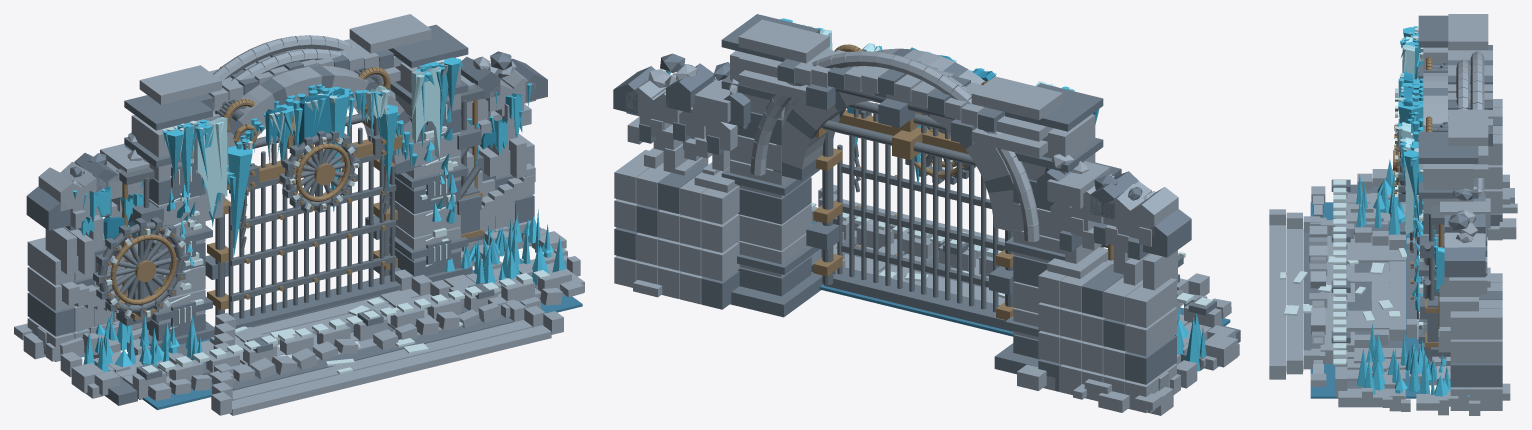
Rendered from frozen_watergate_v09.glb.
3 renders of one model, left to right at view 1: azimuth 30°, elevation 25°; view 2: azimuth 150°, elevation 25°; view 3: azimuth 270°, elevation 25°, orthographic. The views are drawn at different scales.
Parts seen in each view (by area): view 1: Spillway stepped stone bed.008, Spillway stepped stone bed.007, Gate threshold sill, Arch spandrel bonded course.005, Arch spandrel bonded course.004, Spillway stepped stone bed.006, Pillar cornice.003, v09 fused icicle curtain 0, Pillar cornice.007, v09 fused icicle curtain 2, v09 monumental icicle 0, Fractured parapet stone.008 (+51 smaller); view 2: Gate threshold sill, Arch spandrel bonded course.005, Arch spandrel bonded course.004, Pillar masonry 1 3, Pillar masonry 1 2, Stone pillar footing.001, Pillar cornice.003, Bonded abutment block.019, Stone wall buttress.002, Bonded abutment block.014, Bonded abutment block.009, Fractured parapet stone.008 (+91 smaller); view 3: Spillway stepped stone bed.008, Spillway stepped stone bed.007, Bonded abutment block.039, Pillar cornice.007, Arch spandrel bonded course.004, Arch spandrel bonded course.005, Bonded abutment block.029, Bonded abutment block.034, Water channel, Pillar masonry 1 8, Fractured parapet stone.017, Bonded abutment block.024 (+61 smaller).
Boxes of the visible parts, x1,y1,x2,y2 form: Spillway stepped stone bed.008: (230, 325, 551, 415); Spillway stepped stone bed.007: (232, 320, 532, 400); Gate threshold sill: (233, 275, 401, 328); Arch spandrel bonded course.005: (349, 14, 431, 53); Arch spandrel bonded course.004: (139, 65, 221, 104); Spillway stepped stone bed.006: (233, 315, 513, 390); Pillar cornice.003: (124, 95, 212, 130); v09 fused icicle curtain 0: (193, 117, 227, 216); Pillar cornice.007: (388, 24, 468, 68); v09 fused icicle curtain 2: (411, 66, 440, 160); v09 monumental icicle 0: (228, 145, 252, 255); Fractured parapet stone.008: (26, 187, 70, 230); Gate threshold sill: (824, 267, 1013, 331); Arch spandrel bonded course.005: (738, 19, 829, 63); Arch spandrel bonded course.004: (971, 76, 1062, 120); Pillar masonry 1 3: (738, 177, 811, 224); Pillar masonry 1 2: (739, 203, 811, 250); Stone pillar footing.001: (730, 272, 822, 317); Pillar cornice.003: (1005, 83, 1103, 131); Bonded abutment block.019: (1125, 278, 1176, 327); Stone wall buttress.002: (1047, 161, 1110, 208); Bonded abutment block.014: (1125, 307, 1176, 356); Bonded abutment block.009: (1125, 335, 1176, 384); Fractured parapet stone.008: (1143, 209, 1191, 257); Spillway stepped stone bed.008: (1269, 225, 1285, 360); Spillway stepped stone bed.007: (1286, 229, 1303, 371); Bonded abutment block.039: (1450, 309, 1502, 339); Pillar cornice.007: (1418, 132, 1478, 163); Arch spandrel bonded course.004: (1448, 14, 1488, 50); Arch spandrel bonded course.005: (1448, 109, 1488, 145); Bonded abutment block.029: (1450, 363, 1502, 387); Bonded abutment block.034: (1450, 339, 1502, 363); Water channel: (1310, 202, 1426, 398); Pillar masonry 1 8: (1423, 164, 1473, 189); Fractured parapet stone.017: (1444, 247, 1485, 277); Bonded abutment block.024: (1450, 387, 1502, 410).
Size of the model in its own units: 17.83 by 8.69 by 8.12.
